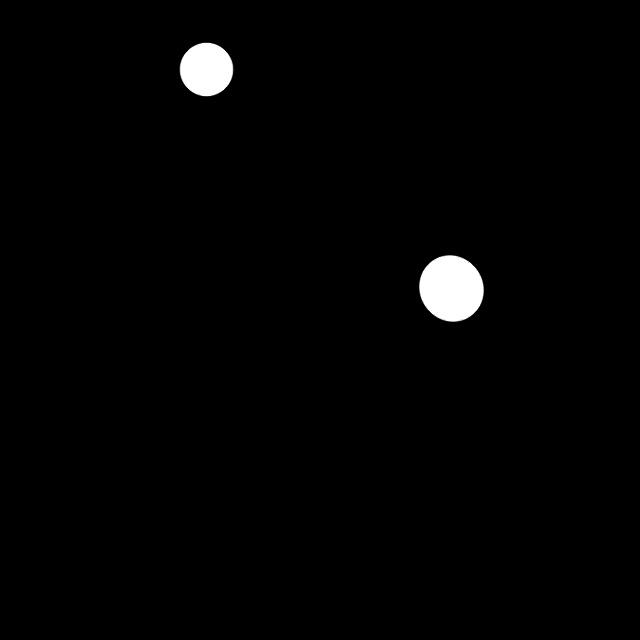Circle: (412, 247, 489, 331), (174, 35, 240, 104)
